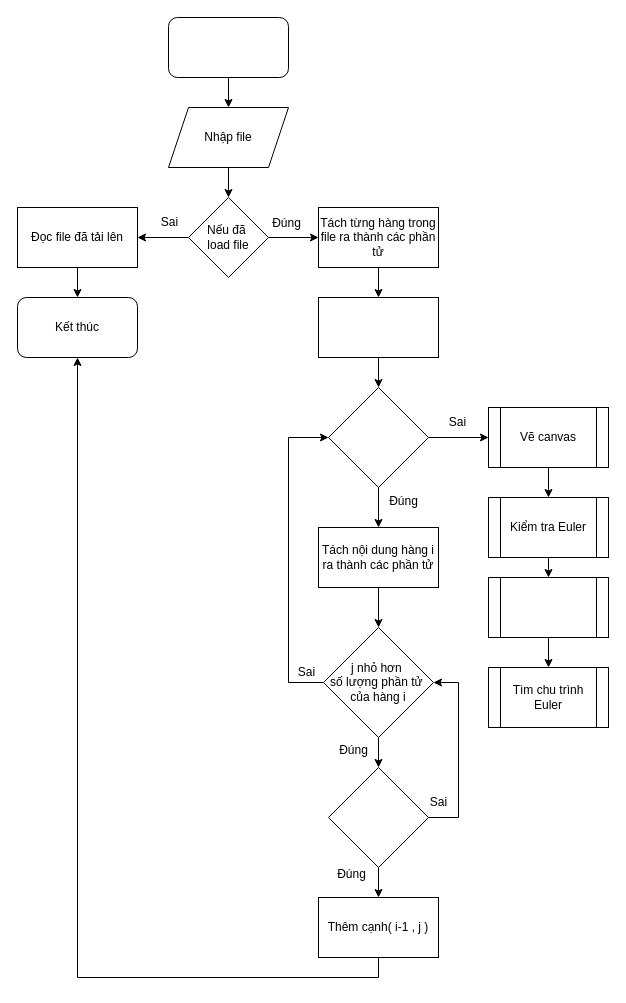
Image size: 626x1003. Some labels were removed from this diagram. The shapes that lost their labels are listed below. From the top down, each one's centre as x and y in pixels, then its label:
point 228,47: Bắt đầu
point 378,327: Lấy dòng đầu tiênn của file là số đỉnh
point 378,437: i nhỏ hơn số đỉnh
point 548,607: Hiển thị ma trận
point 378,817: Nếu phần tử hàng j = 1
